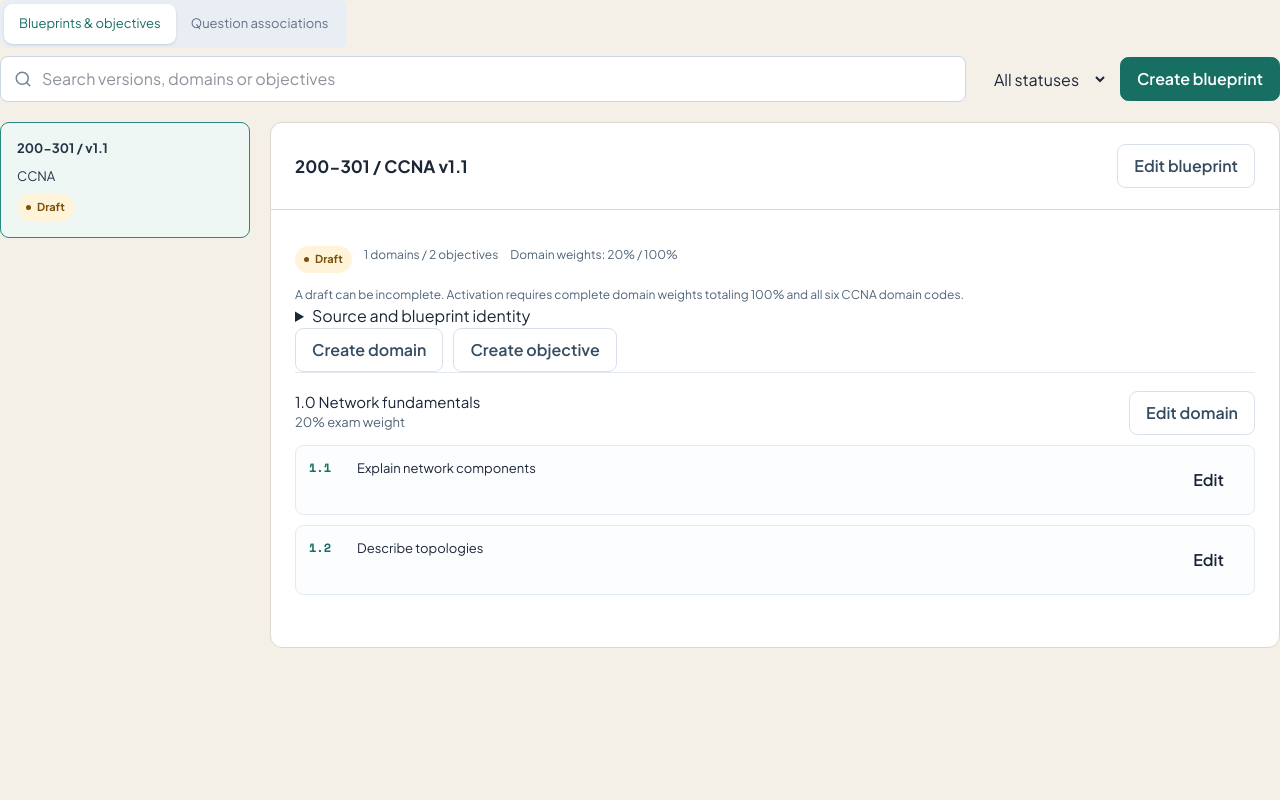
Test: taxonomy keeps creation in an accessible dialog with cancel performing no write
Click the button "Create blueprint" at [1200, 79], box [1120,57,1279,101]
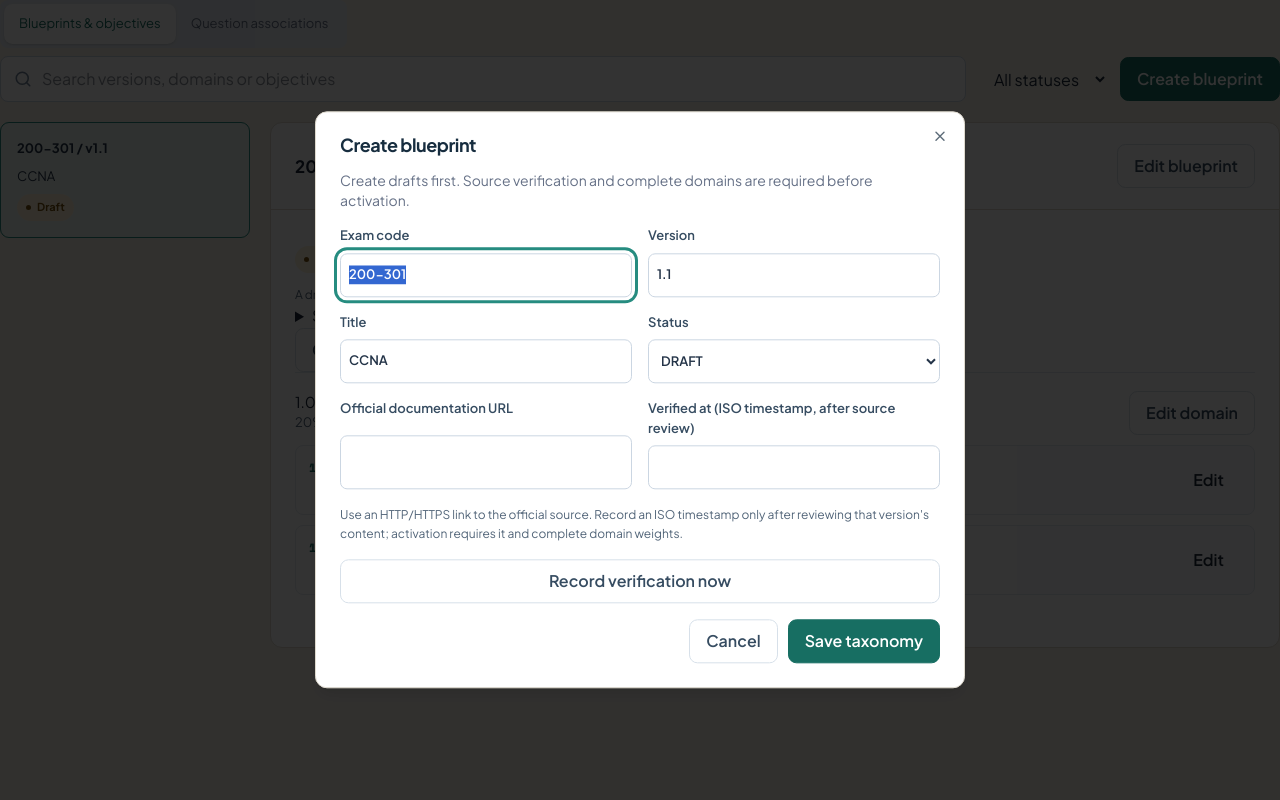
Result: the dialog is shown at [315,111,965,689]
Click the button "Cancel" at [733, 642], box [689,620,778,664]
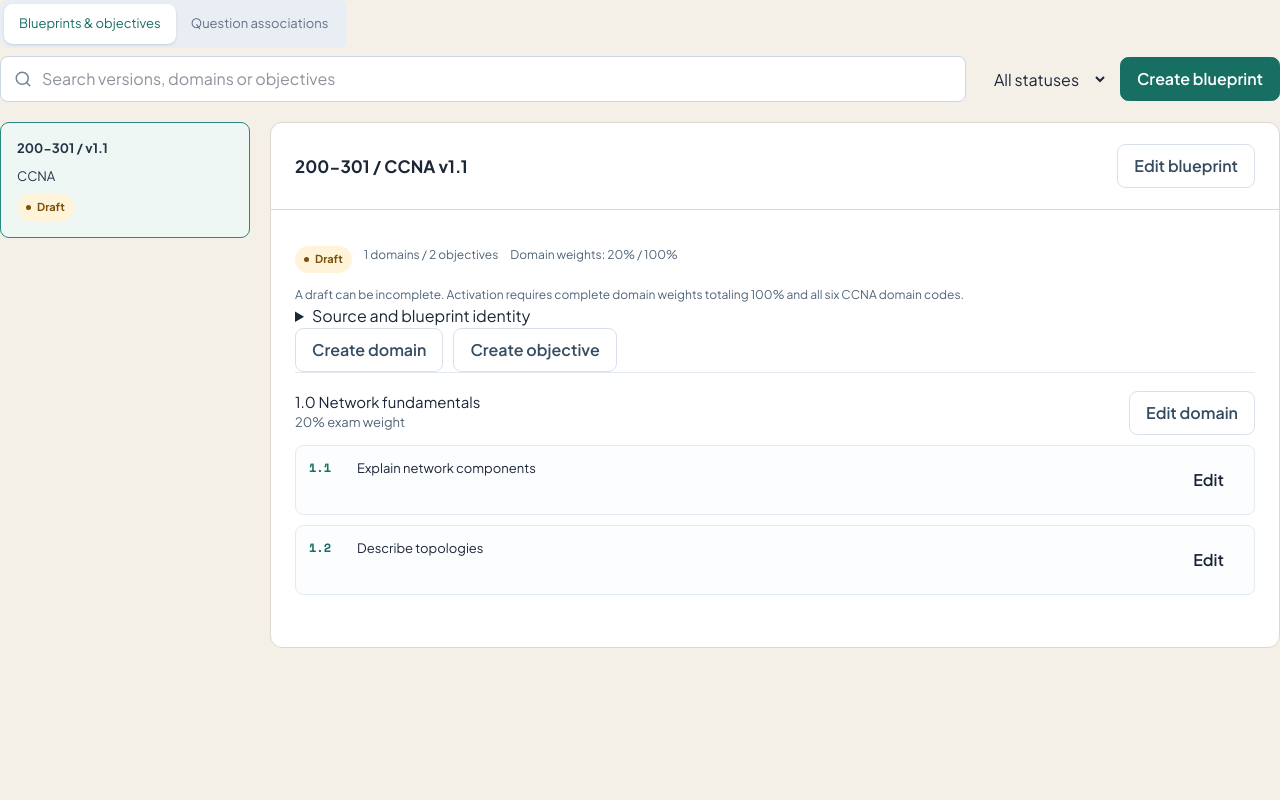
Result: the dialog is gone
